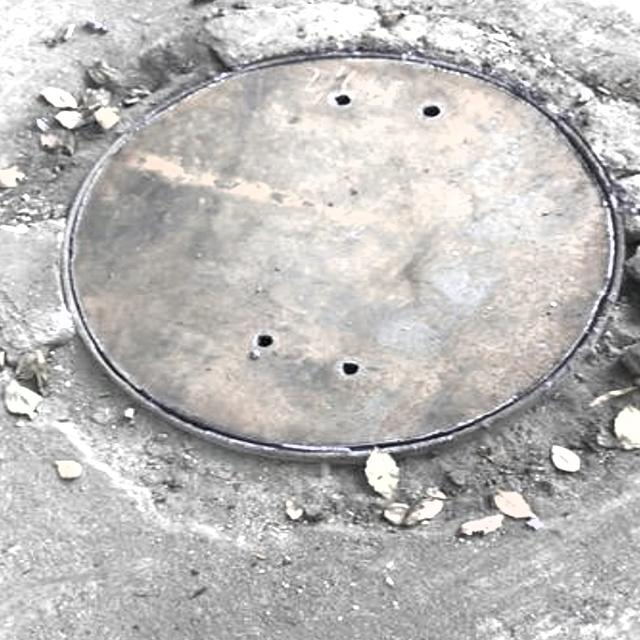circle: (0, 0, 640, 571)
